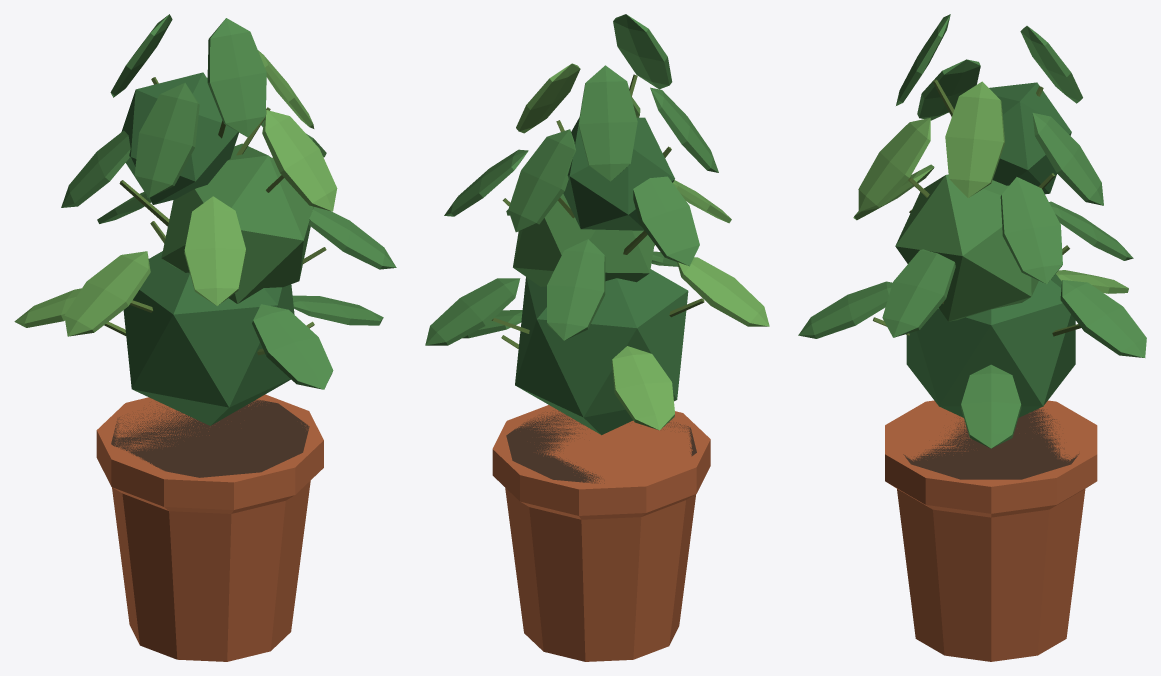
Rendered from plant_floor.glb.
The picture shows the model from 3 angles, left to right: view 1: azimuth 30°, elevation 25°; view 2: azimuth 150°, elevation 25°; view 3: azimuth 270°, elevation 25°; orthographic projection. The views are drawn at different scales.
Visible parts, largest first — view 1: PlantFloor; view 2: PlantFloor; view 3: PlantFloor.
Boxes of the visible parts, x1,y1,x2,y2 form: PlantFloor: (14,14,396,661); PlantFloor: (425,14,769,661); PlantFloor: (798,14,1146,661).
Bounding box in the file's own units: 0.7559 × 1.36 × 0.7036.
